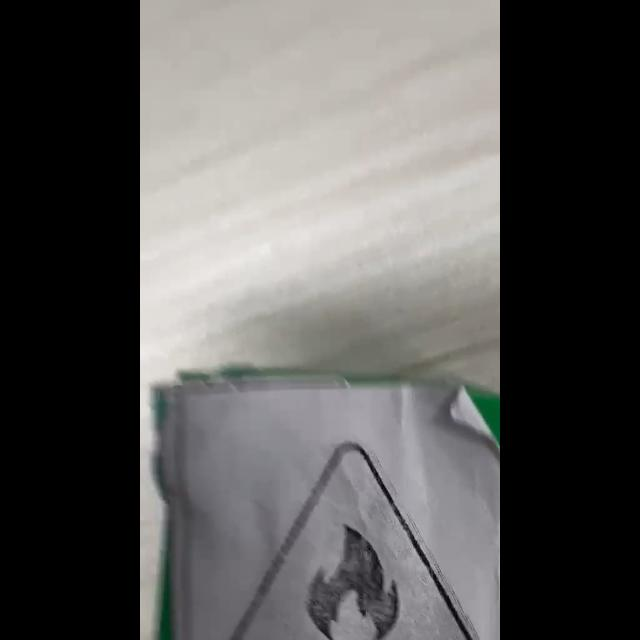Fire: (229, 443, 478, 639)
